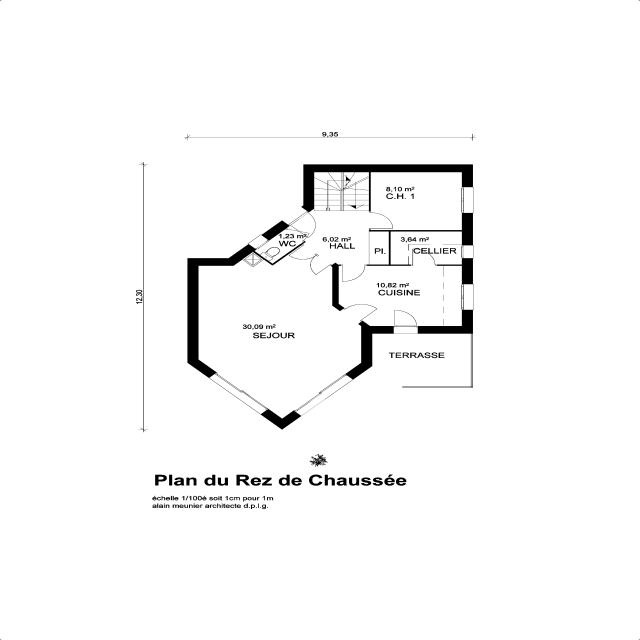door: (341, 298, 377, 322), (288, 212, 319, 238), (342, 258, 364, 290), (394, 303, 416, 334), (310, 253, 330, 283), (370, 205, 392, 231)
window: (462, 275, 474, 322), (461, 178, 473, 224), (463, 238, 472, 264)
zone: (200, 266, 332, 362), (370, 265, 463, 326), (372, 333, 471, 389), (370, 173, 463, 229), (390, 230, 461, 265), (264, 225, 306, 263), (370, 231, 391, 266)
